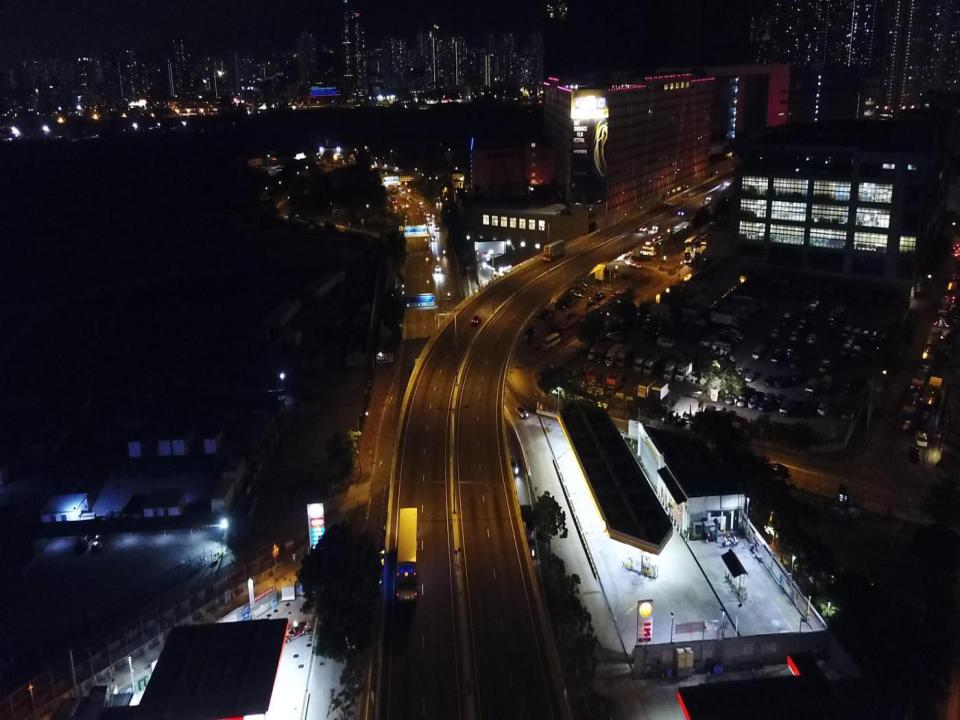bus: (394, 507, 419, 604), (558, 316, 580, 342), (912, 368, 929, 400), (580, 305, 602, 327), (828, 306, 844, 335), (543, 240, 564, 262), (804, 298, 820, 326), (922, 347, 938, 374), (927, 326, 942, 354), (944, 281, 960, 307), (597, 294, 617, 314), (614, 286, 634, 304), (700, 237, 717, 252), (684, 235, 699, 250), (694, 237, 710, 251), (952, 264, 960, 288), (695, 246, 707, 260), (640, 246, 656, 256), (684, 247, 692, 263), (391, 195, 396, 204)
car: (281, 620, 311, 644), (90, 532, 107, 553), (74, 532, 91, 552), (242, 497, 257, 518), (506, 457, 518, 474), (736, 392, 749, 407), (747, 393, 760, 407), (607, 332, 625, 342), (908, 445, 920, 460), (515, 406, 528, 419), (758, 397, 770, 411), (520, 324, 535, 335), (726, 391, 737, 406), (817, 403, 829, 416), (819, 359, 830, 373), (536, 309, 551, 319), (645, 332, 663, 340), (775, 374, 787, 386), (771, 349, 782, 362), (789, 354, 800, 367), (792, 369, 802, 383), (744, 371, 756, 382), (765, 374, 776, 386), (553, 300, 566, 310), (708, 332, 724, 340), (729, 330, 743, 339), (782, 312, 793, 323), (567, 312, 582, 320), (724, 336, 739, 344), (564, 293, 578, 301), (785, 346, 795, 357), (559, 297, 571, 306), (559, 296, 574, 303), (776, 394, 786, 404), (765, 392, 775, 402), (755, 390, 765, 400), (700, 338, 714, 345), (719, 327, 733, 334), (594, 292, 605, 300), (586, 301, 598, 308), (745, 388, 755, 396), (472, 316, 480, 325), (798, 320, 807, 328), (631, 262, 641, 269), (573, 292, 584, 298), (772, 329, 780, 337), (790, 332, 799, 339), (434, 265, 442, 272), (565, 286, 575, 291), (678, 209, 685, 216), (645, 239, 653, 245), (653, 223, 660, 229), (625, 260, 633, 264), (640, 226, 647, 230), (431, 235, 436, 240), (724, 181, 730, 185), (706, 196, 712, 200), (435, 225, 439, 230), (428, 220, 432, 225), (426, 212, 430, 217), (652, 238, 658, 241), (657, 235, 663, 238), (401, 190, 405, 194), (683, 193, 688, 196), (419, 201, 422, 205), (405, 205, 409, 207)
truck: (516, 504, 536, 560), (710, 310, 742, 329), (720, 301, 750, 320), (737, 292, 767, 311), (726, 297, 756, 315), (637, 378, 659, 399), (643, 352, 662, 376), (616, 344, 634, 368), (634, 349, 652, 373), (663, 357, 680, 381), (606, 371, 627, 390), (676, 358, 693, 381), (651, 380, 670, 400), (605, 342, 622, 364), (596, 342, 612, 364), (586, 365, 604, 383), (588, 342, 602, 360), (822, 375, 833, 390)
van: (541, 333, 560, 350), (841, 338, 854, 356), (915, 429, 928, 447), (656, 336, 675, 348), (779, 398, 791, 416), (751, 345, 764, 361), (805, 378, 817, 395), (842, 404, 854, 420), (712, 341, 731, 351), (851, 327, 862, 341), (850, 346, 862, 358), (842, 324, 852, 338), (806, 334, 818, 344)
